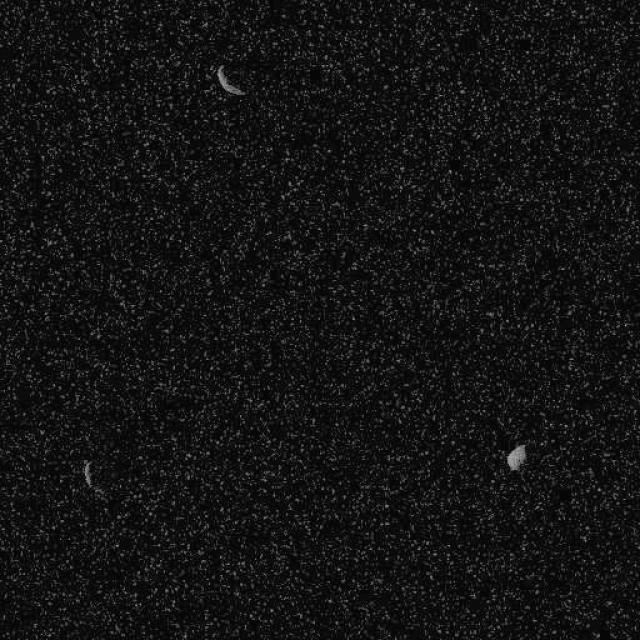D2: (215, 62, 247, 96), (80, 458, 105, 497), (505, 442, 527, 472)
